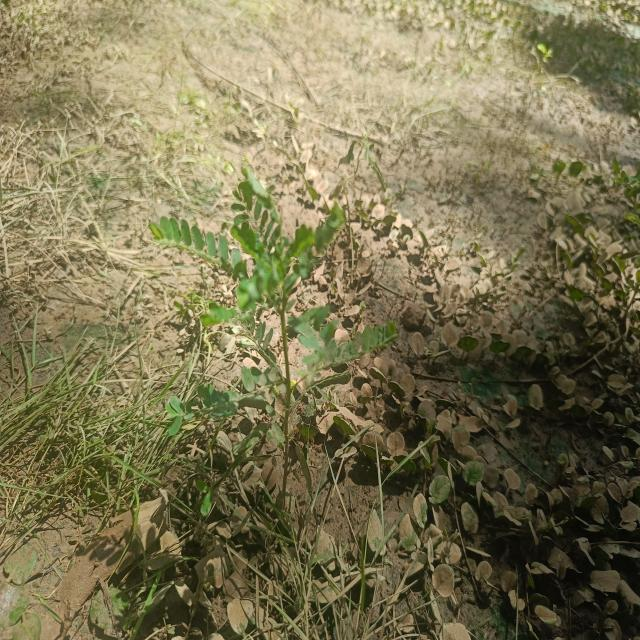weed: (148, 178, 401, 488)
